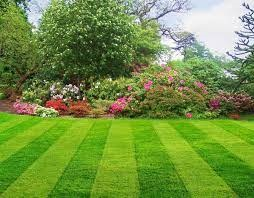grass: (1, 115, 250, 196)
